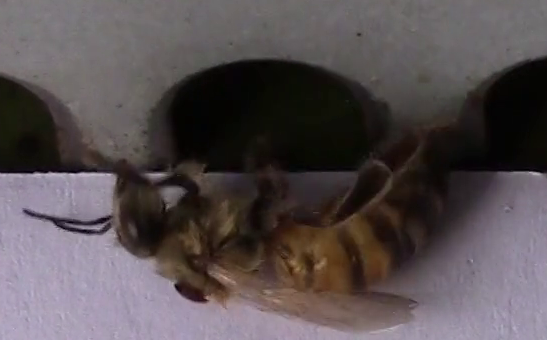Varroa destructor: (168, 279, 215, 305)
